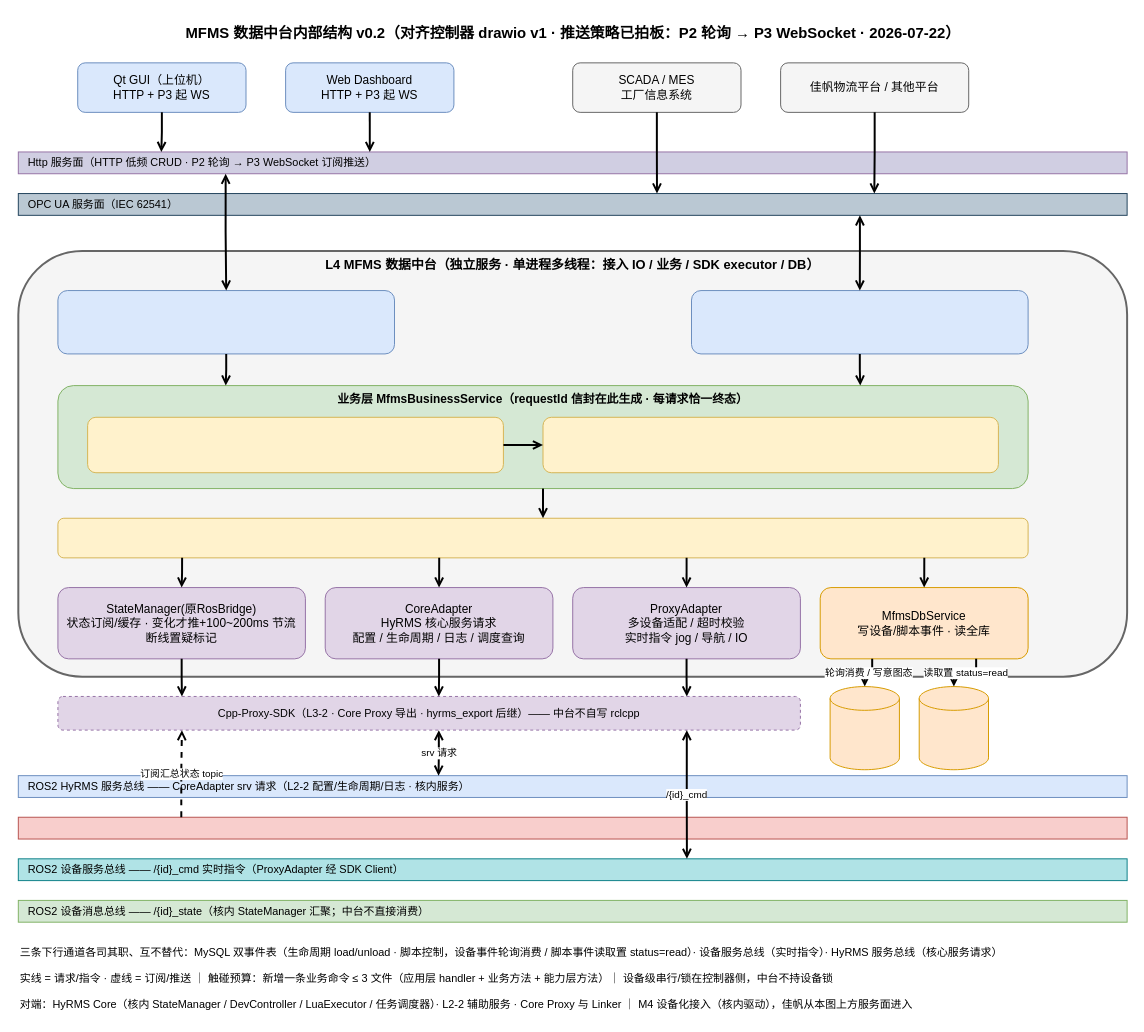
Some shapes in this 1144 by 1032 pixel diagram are drawn without their labels. The box of each missing label's shape, as (x1, y1, x2, y2) in pixels:
MfmsGateway（门面：隐藏能力层细节 · requestId 信封透传不改名 · 禁止逐信号转发链）: (57, 517, 1028, 558)
MfmsHttpServer —— HTTP 低频 CRUD P2 轮询 API（schema 按订阅制预留）→ P3 WebSocket 推送: (57, 290, 395, 354)
OPC UA Server (IEC 62541) 地址空间 = 状态缓存镜像 · 写节点转命令: (691, 290, 1028, 354)
ROS2 HyRMS 消息总线 —— 核内 StateManager 汇总状态 topic（中台 StateManager 订阅）: (17, 816, 1127, 839)
多设备管理 HyRMS 生命周期管控 · 日志处理 · 参数配置 · 注册表白名单: (542, 416, 998, 473)
安全管理 认证 / 鉴权 / 过滤 / 限流 / 审计: (87, 416, 503, 473)
数据库 脚本事件: (918, 686, 989, 770)
数据库 设备事件: (829, 686, 899, 770)
